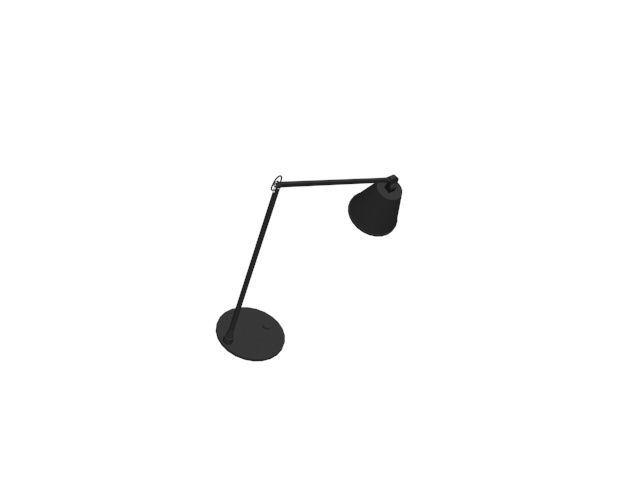desk_lamp: (209, 169, 408, 368)
